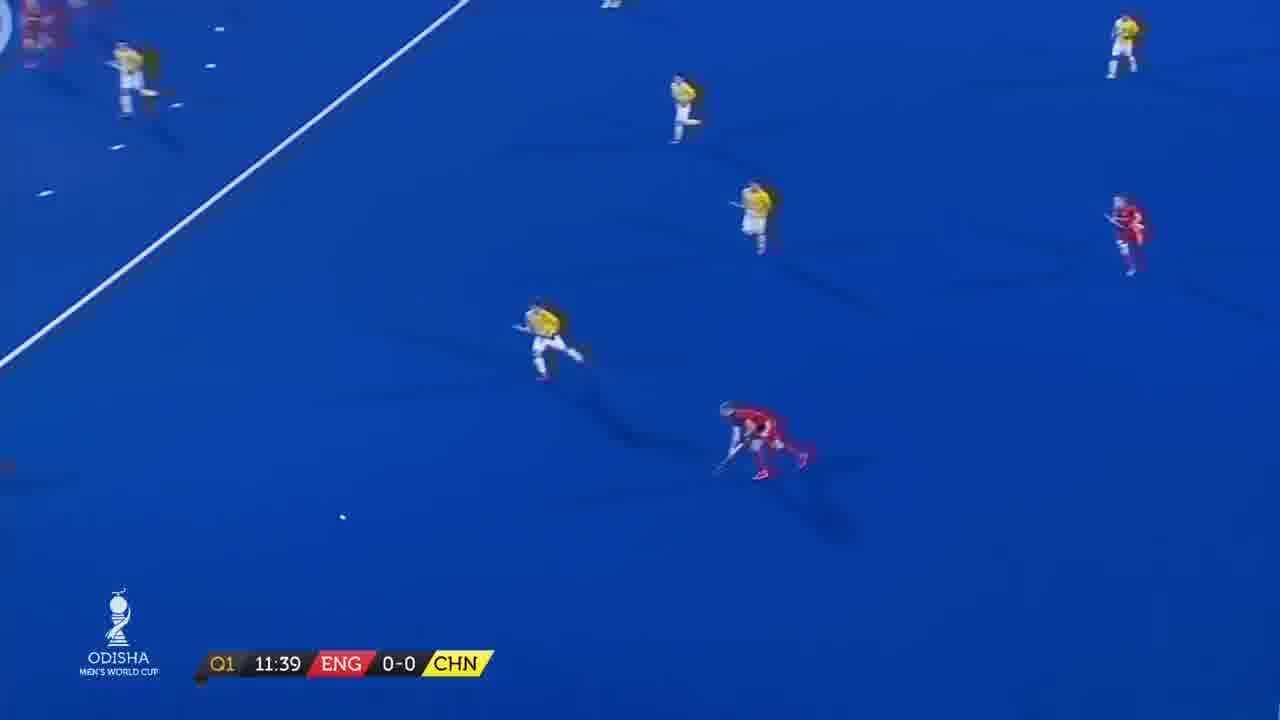ball: (337, 511, 351, 527)
